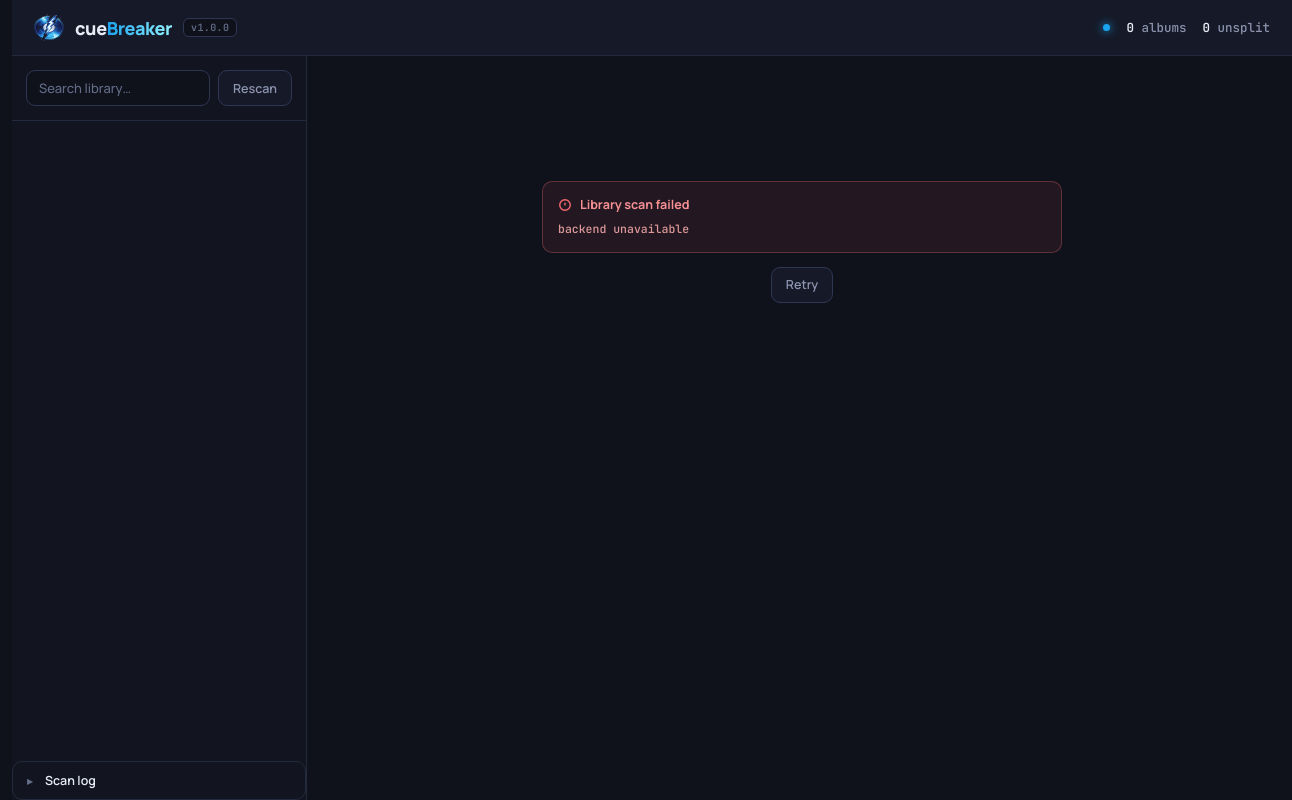
Test: App › retries the scan from the error box
Expected: the text "Library scan failed" is shown, [558,196,690,213]
What coordinates should you click on to do the following:
click the button "Retry"
I would click on:
 (802, 285)
Its box is [771,267,833,303].
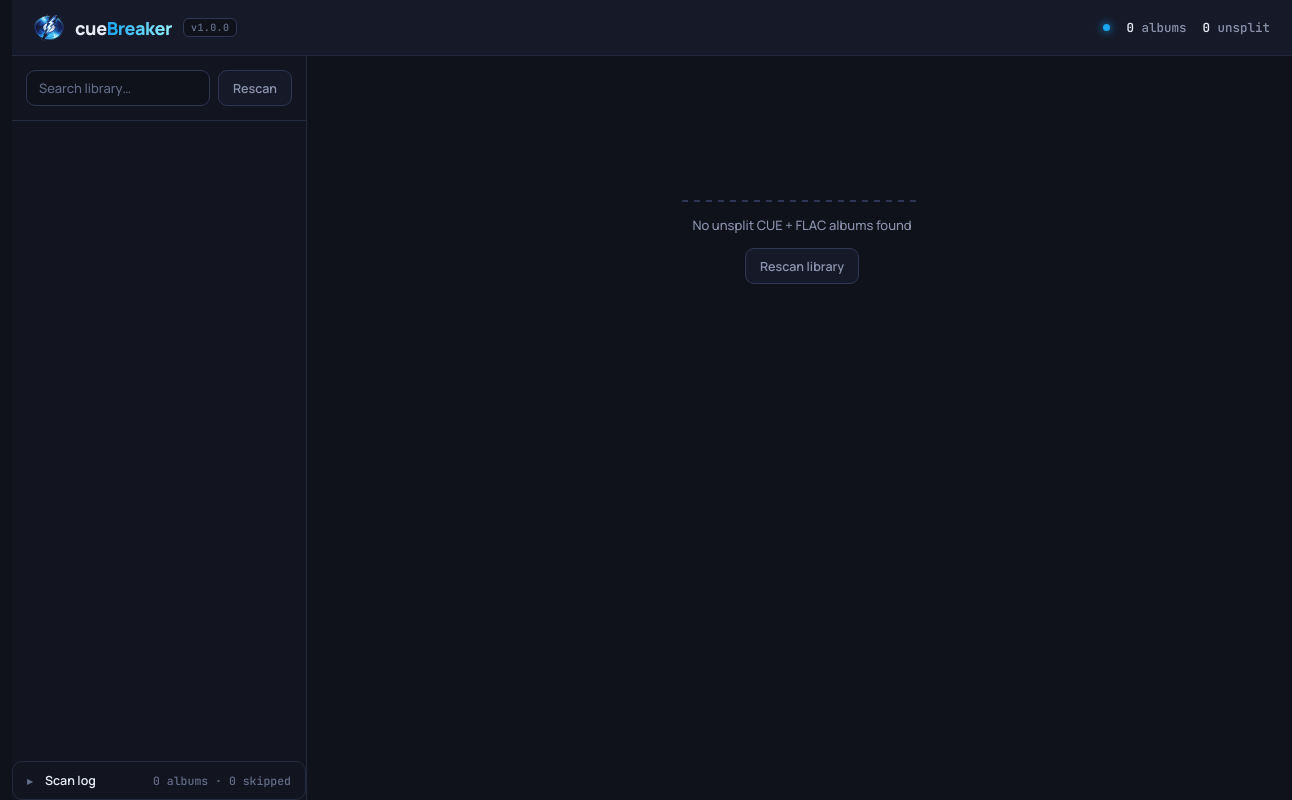
Expected: the text "No unsplit CUE + FLAC albums found" is shown, [692,216,912,234]
Expected: the text "Library scan failed" is gone
